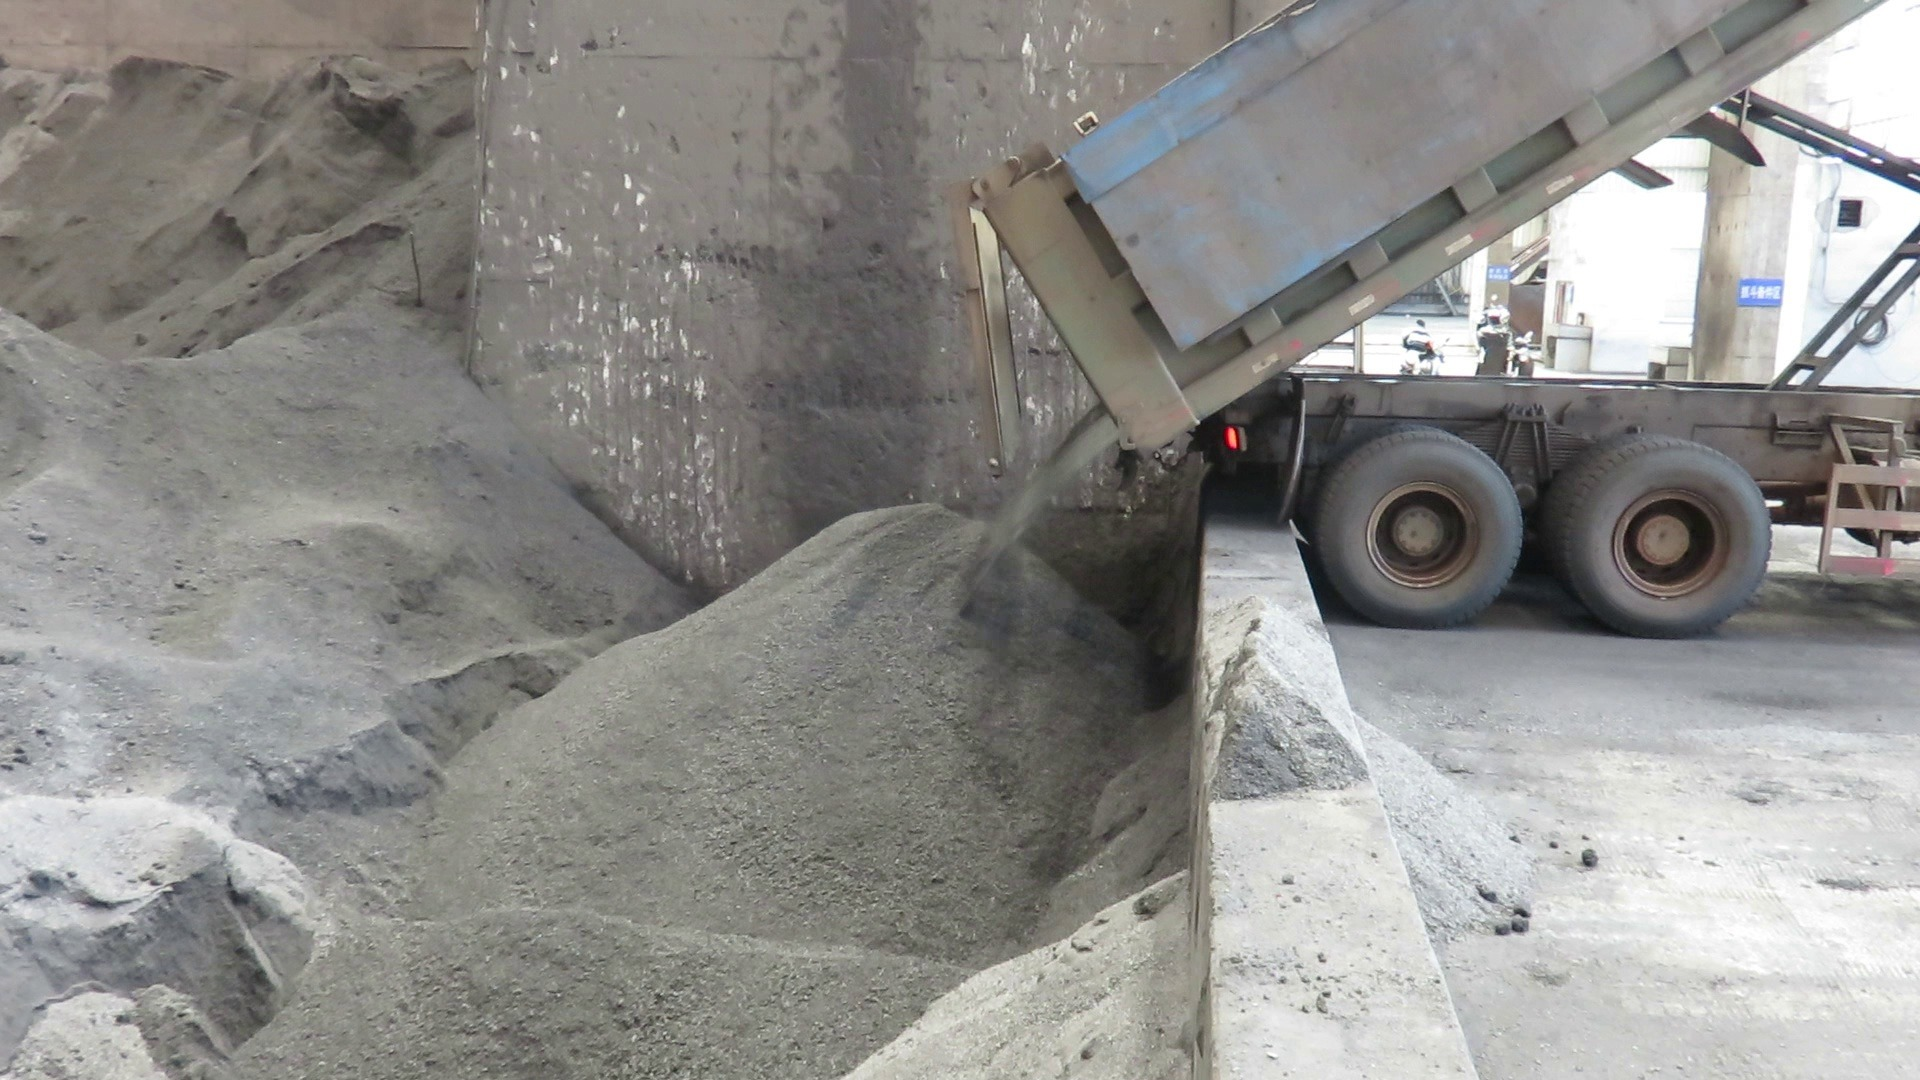truck: (957, 0, 1920, 638)
